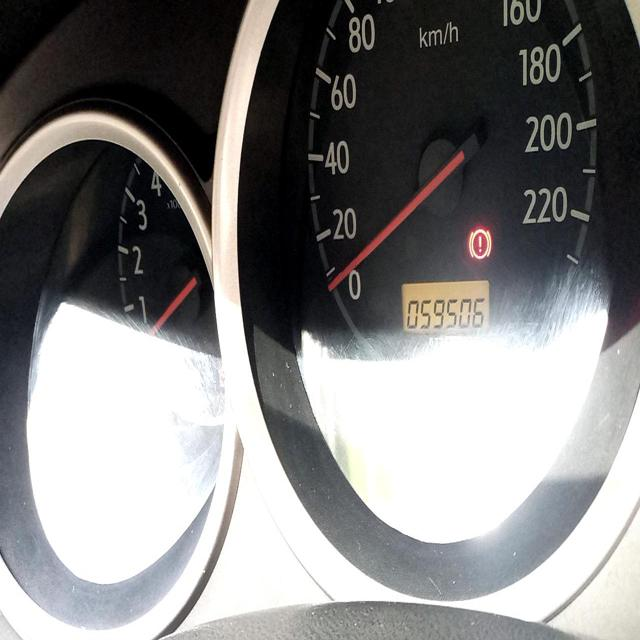odometer: (403, 294, 486, 333)
